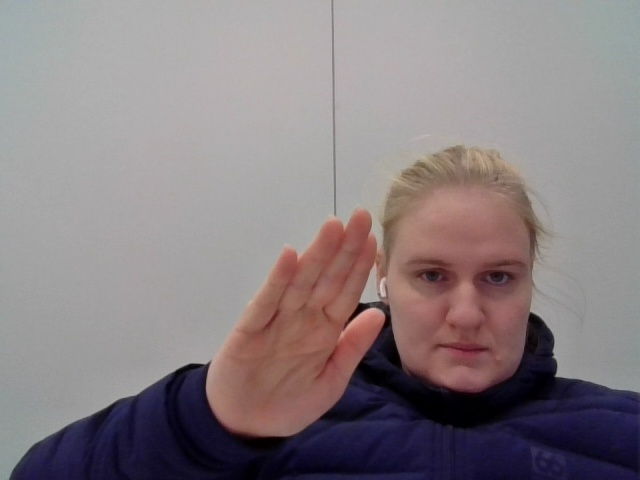nada: (196, 207, 393, 441)
